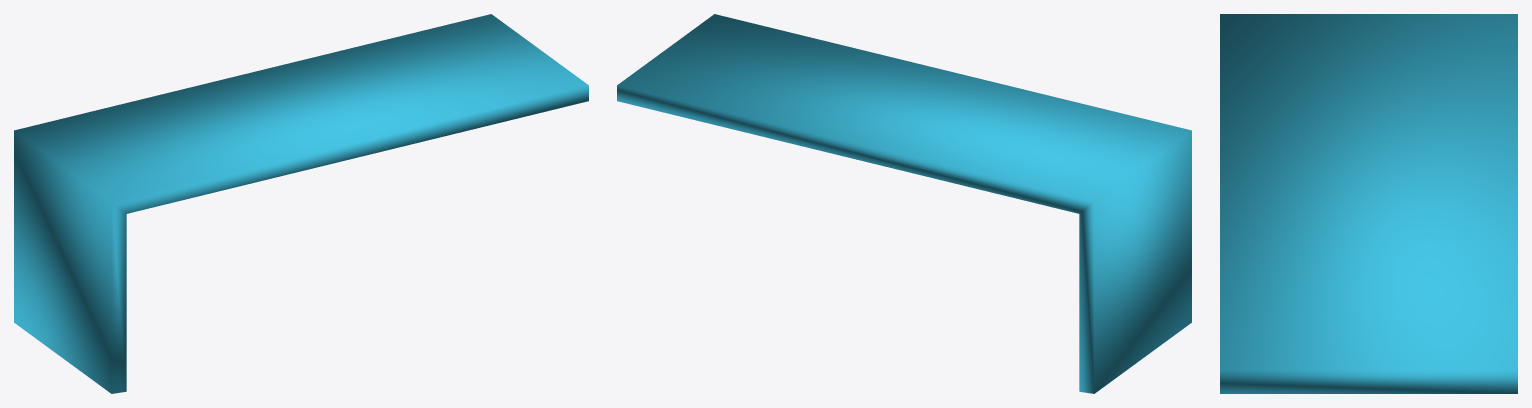
File: glass7.fbx
3 views of the same model, side by side, from view 1: azimuth 30°, elevation 25°; view 2: azimuth 150°, elevation 25°; view 3: azimuth 270°, elevation 25° (orthographic). The views are drawn at different scales.
Visible parts, largest first — view 1: Plane_166; view 2: Plane_166; view 3: Plane_166.
Part boxes in pixels (x1,y1,x2,y2): Plane_166: (14, 14, 588, 393); Plane_166: (617, 14, 1191, 393); Plane_166: (1220, 14, 1517, 393).
Bounding box in the file's own units: 13 × 5.04 × 4.6.
Materials: 1 (1 with a texture image).
